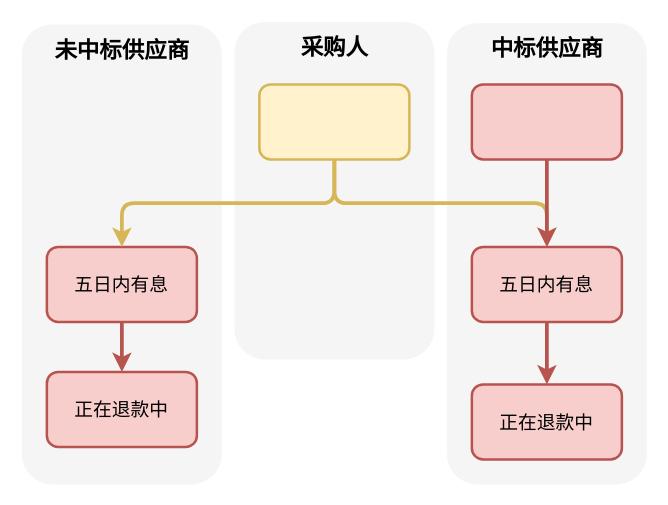
Image size: 668x505. Some labels were removed from this diagram. The shapes that lost their labels are listed below. From the top down, each one's centre as x and y in pixels, then its label:
At (x=334, y=121): "同意退款".
At (x=546, y=121): "支付服务费".
